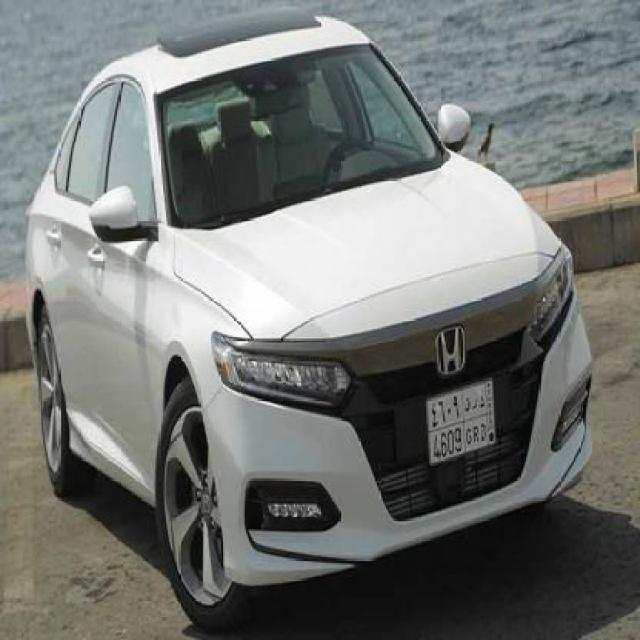license_plate: (424, 373, 498, 470)
